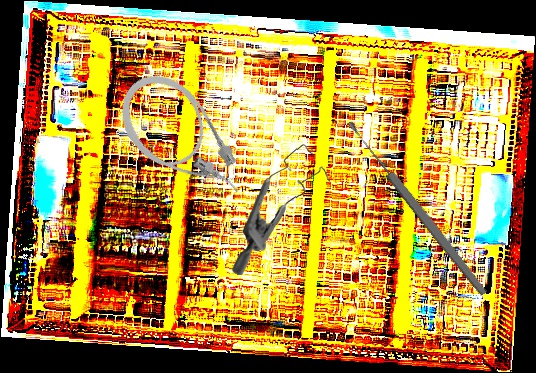Cannula: (104, 58, 258, 224)
Speculum: (231, 141, 332, 278)
Surgical Spoon: (345, 118, 489, 298)
